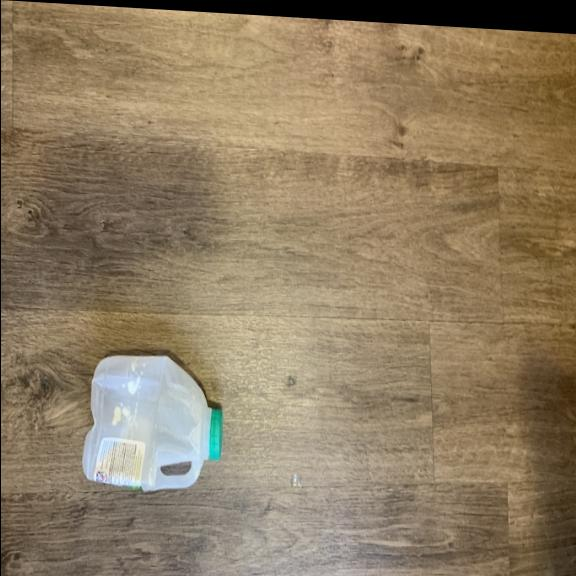Plastik: (78, 344, 224, 500)
